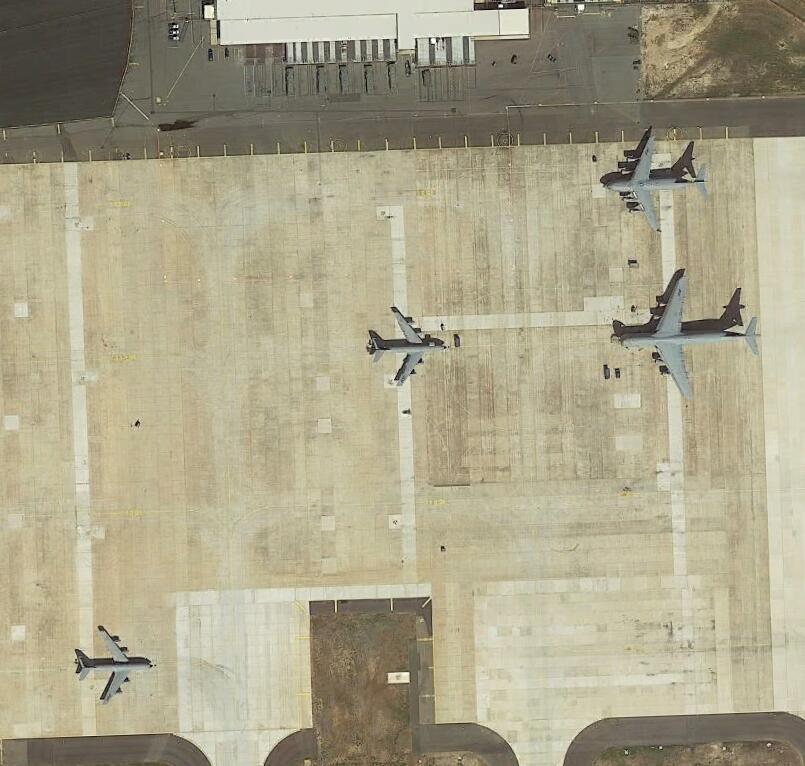A14: (365, 306, 451, 388), (74, 621, 154, 705)
A3: (599, 133, 711, 234)
A4: (609, 269, 768, 405)
